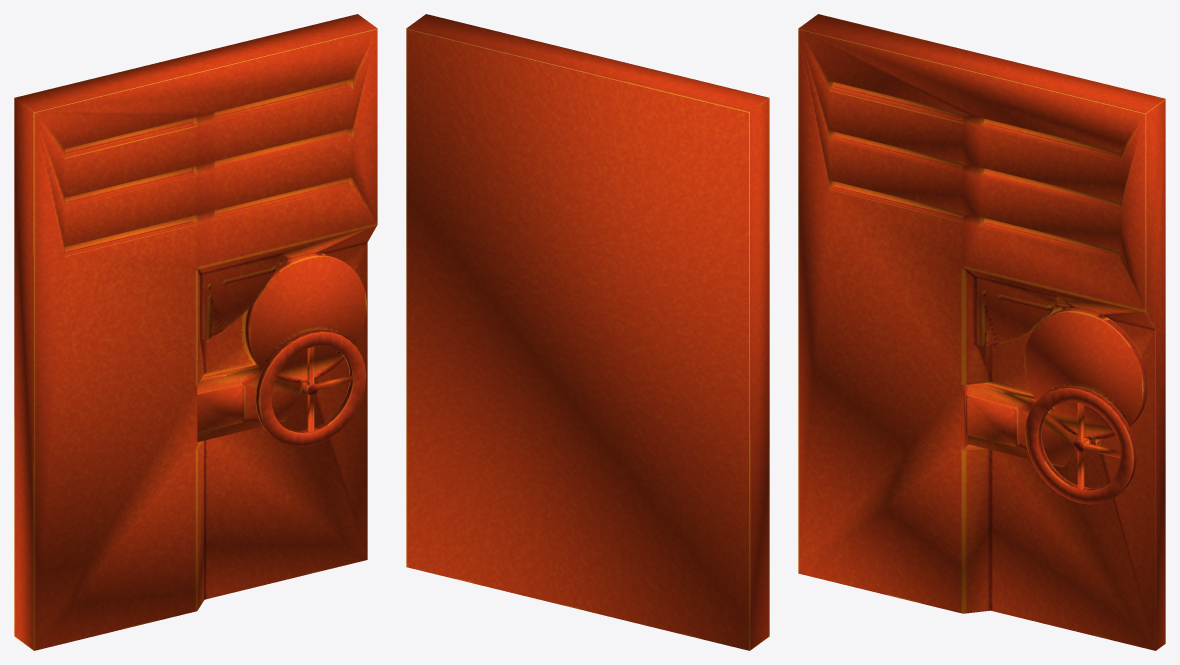
Rendered from door_LOD0.fbx.
3 renders of one model, left to right at view 1: azimuth 30°, elevation 25°; view 2: azimuth 150°, elevation 25°; view 3: azimuth 330°, elevation 25°, orthographic.
Visible parts, largest first — view 1: door_LOD0; view 2: door_LOD0; view 3: door_LOD0.
Part boxes in pixels (box(x1,y1,x2,y2)): door_LOD0: box(14, 14, 377, 650); door_LOD0: box(406, 14, 769, 650); door_LOD0: box(798, 14, 1165, 650).
Size of what is drawn, in the model's own units: 200 by 300 by 20.46.
